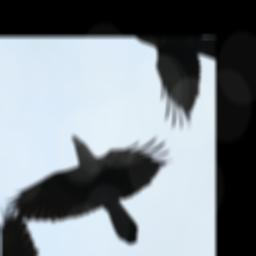Crow: (3, 70, 186, 256)
